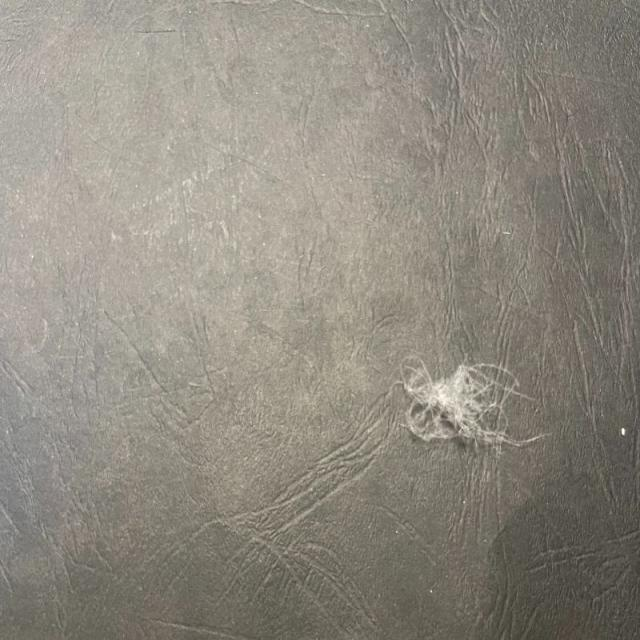feather: (398, 352, 541, 456)
